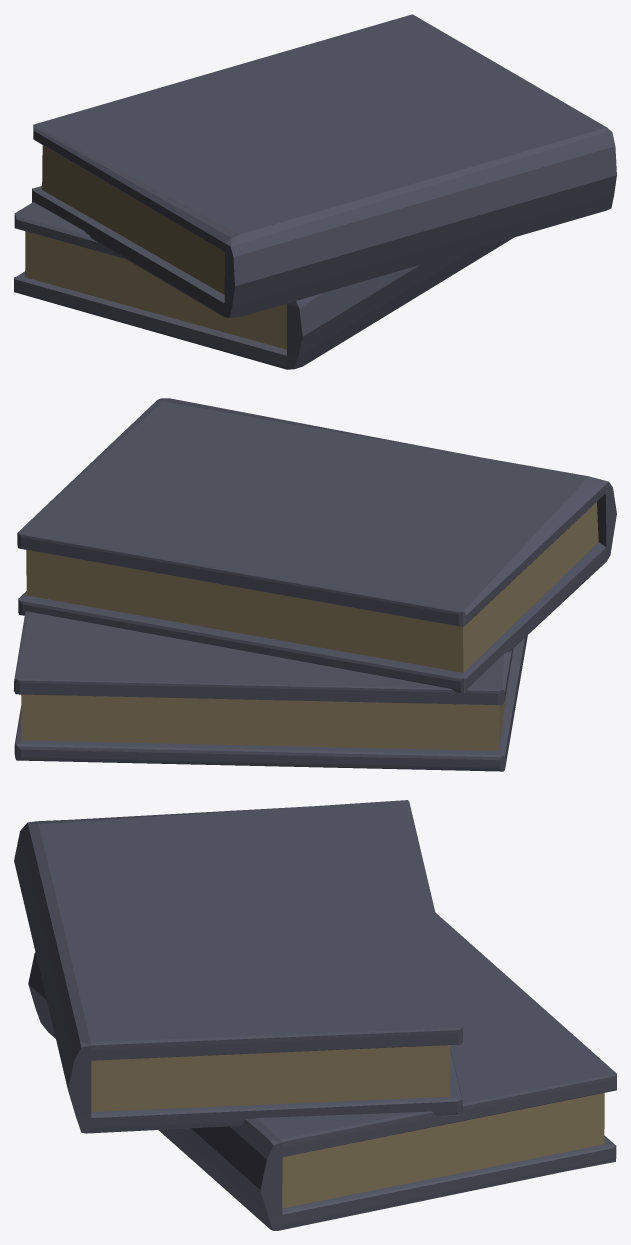
The model's file is book3.fbx.
3 views of the same model, one above another, from view 1: azimuth 30°, elevation 25°; view 2: azimuth 150°, elevation 25°; view 3: azimuth 270°, elevation 25° (orthographic). The views are drawn at different scales.
Parts seen in each view (by area): view 1: 2 book; view 2: 2 book; view 3: 2 book.
Boxes of the visible parts, x1,y1,x2,y2 form: 2 book: (14, 14, 616, 369); 2 book: (14, 398, 616, 771); 2 book: (14, 800, 616, 1230).
Bounding box in the file's own units: 0.5309 × 0.1601 × 0.494.
